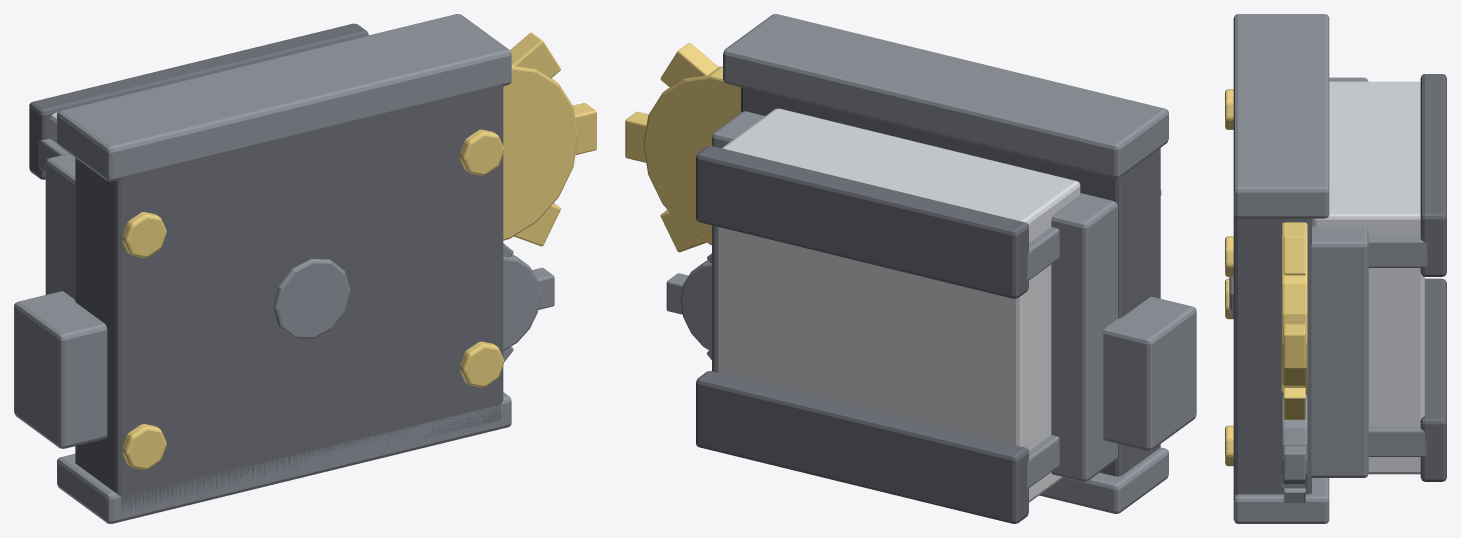
The model's file is trap_push_wall.glb.
3 renders of one model, left to right at view 1: azimuth 30°, elevation 25°; view 2: azimuth 150°, elevation 25°; view 3: azimuth 270°, elevation 25°, orthographic. The views are drawn at different scales.
Visible parts, largest first — view 1: Frame, FrameCap, Weight, FrameFoot, Drive, RamPad66, RamRod, Rail-40, Idler, Bolt40_16, Bolt40_64, Bolt-40_16 (+5 smaller); view 2: RamHead, FrameCap, RamPad66, RamPad14, Rail-40, Frame, Weight, Drive, FrameFoot, Idler, Rail40, DriveT1 (+6 smaller); view 3: RamHead, FrameCap, Frame, Rail40, RamPad66, RamPad14, FrameFoot, Drive, RamBand64, RamBand16, Idler, DriveT0 (+9 smaller).
Part boxes in pixels (bbox=[...]): Frame: bbox=[75, 84, 503, 511]; FrameCap: bbox=[57, 14, 511, 181]; Weight: bbox=[14, 291, 107, 448]; FrameFoot: bbox=[57, 392, 511, 523]; Drive: bbox=[503, 65, 578, 240]; RamPad66: bbox=[29, 23, 368, 179]; RamRod: bbox=[273, 258, 350, 338]; Rail-40: bbox=[45, 153, 75, 299]; Idler: bbox=[503, 254, 540, 350]; Bolt40_16: bbox=[459, 341, 504, 387]; Bolt40_64: bbox=[459, 129, 504, 175]; Bolt-40_16: bbox=[122, 424, 166, 469]; RamHead: bbox=[716, 108, 1080, 502]; FrameCap: bbox=[723, 14, 1168, 178]; RamPad66: bbox=[696, 146, 1028, 298]; RamPad14: bbox=[696, 371, 1028, 523]; Rail-40: bbox=[1051, 193, 1117, 481]; Frame: bbox=[741, 87, 1160, 476]; Weight: bbox=[1103, 296, 1196, 450]; Drive: bbox=[643, 66, 740, 245]; FrameFoot: bbox=[1039, 447, 1168, 513]; Idler: bbox=[680, 260, 711, 351]; Rail40: bbox=[712, 111, 764, 371]; DriveT1: bbox=[661, 42, 718, 87]; RamHead: bbox=[1312, 81, 1424, 474]; FrameCap: bbox=[1233, 14, 1329, 218]; Frame: bbox=[1233, 215, 1311, 496]; Rail40: bbox=[1311, 226, 1368, 477]; RamPad66: bbox=[1420, 74, 1446, 276]; RamPad14: bbox=[1420, 278, 1446, 481]; FrameFoot: bbox=[1233, 478, 1329, 523]; Drive: bbox=[1281, 222, 1307, 392]; RamBand64: bbox=[1368, 237, 1427, 267]; RamBand16: bbox=[1368, 426, 1427, 456]; Idler: bbox=[1281, 394, 1307, 488]; DriveT0: bbox=[1283, 324, 1305, 368].
Bounding box in the file's own units: 1.32 × 0.855 × 0.51.
